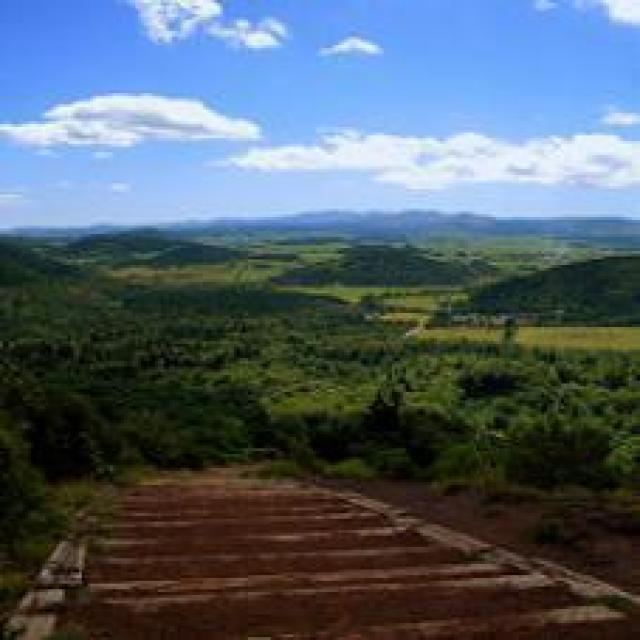downstair: (35, 475, 469, 630)
